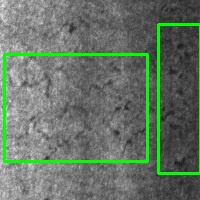crazing: (4, 54, 147, 161), (158, 24, 200, 173)
